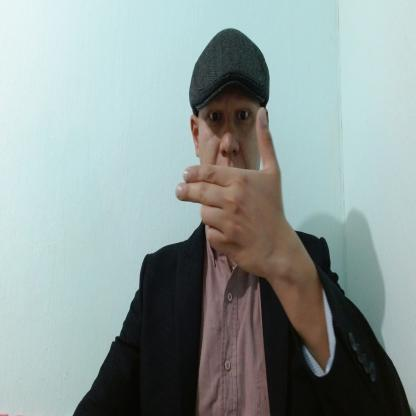H: (176, 109, 282, 276)
